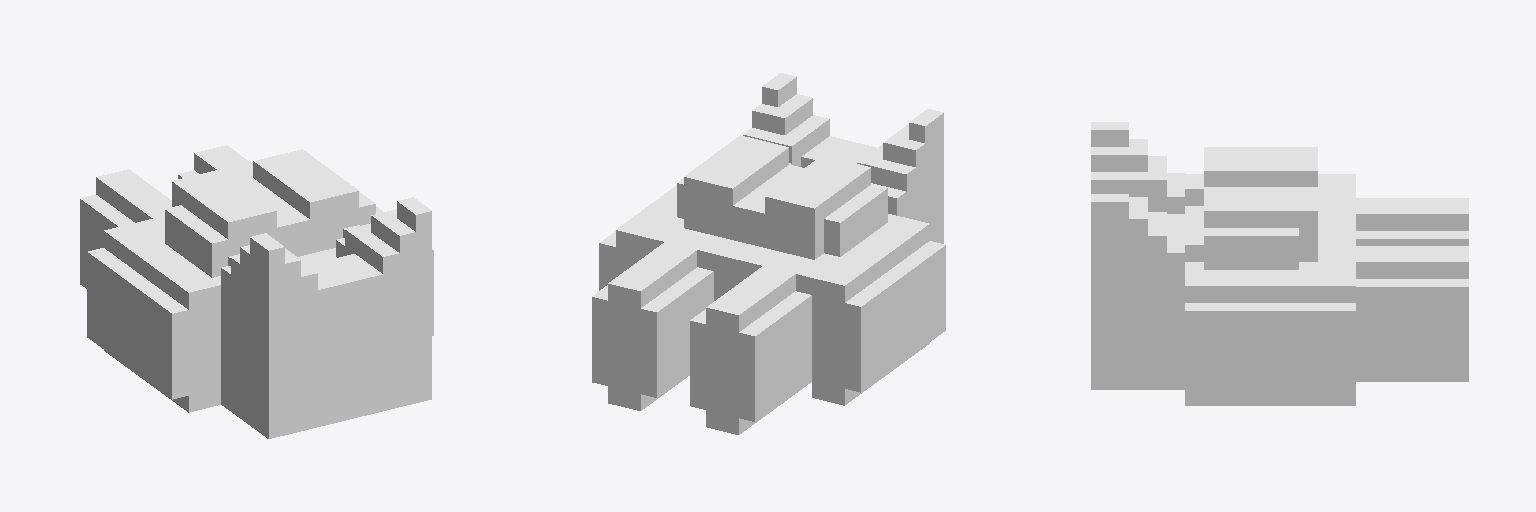
Rendered from FoxPlayer.obj.
The picture shows the model from 3 angles: view 1: azimuth 30°, elevation 25°; view 2: azimuth 150°, elevation 25°; view 3: azimuth 270°, elevation 25°; orthographic projection.
Bounding box in the file's own units: 16 × 11 × 20.